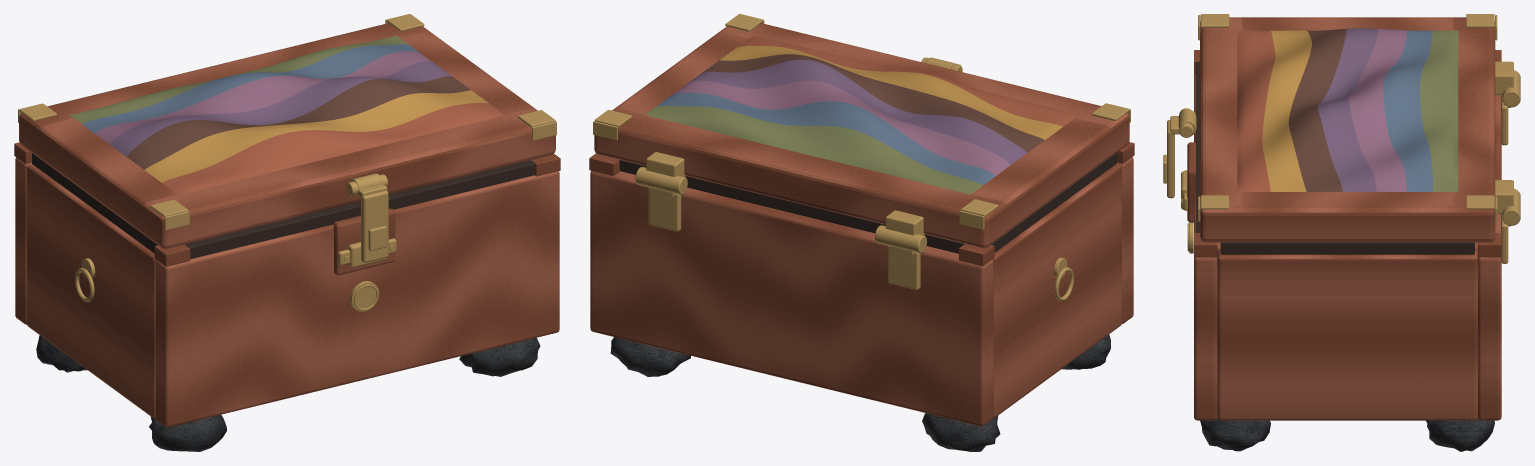
The model's file is mauritius.glb.
3 renders of one model, left to right at view 1: azimuth 30°, elevation 25°; view 2: azimuth 150°, elevation 25°; view 3: azimuth 270°, elevation 25°, orthographic.
Visible parts, largest first — view 1: Earth / long wall, Lid / polished slab, Earth / end wall, Dune / ribbon 0, Dune / ribbon 1, Dune / ribbon 2, Seam / long, Dune / ribbon 3, Dune / ribbon 4, Dune / ribbon 5, Dune / ribbon 6, Granite foot (+8 smaller); view 2: Earth / long wall.001, Lid / polished slab, Earth / end wall, Dune / ribbon 6, Dune / ribbon 5, Dune / ribbon 3, Dune / ribbon 4, Dune / ribbon 2, Dune / ribbon 1, Seam / long.001, Dune / ribbon 0, Granite foot.001 (+12 smaller); view 3: Earth / end wall.001, Lid / polished slab, Dune / ribbon 2, Dune / ribbon 5, Dune / ribbon 6, Dune / ribbon 1, Dune / ribbon 3, Dune / ribbon 4, Dune / ribbon 0, Earth / long wall.001, Earth / long wall, Seam / side.001 (+15 smaller).
Part boxes in pixels (x1,y1,x2,y2): Earth / long wall: (155, 171, 559, 427); Lid / polished slab: (19, 23, 555, 248); Earth / end wall: (27, 164, 156, 418); Dune / ribbon 0: (162, 102, 504, 194); Dune / ribbon 1: (145, 90, 488, 182); Dune / ribbon 2: (126, 76, 470, 169); Seam / long: (184, 160, 535, 258); Dune / ribbon 3: (110, 61, 452, 156); Dune / ribbon 4: (95, 51, 431, 144); Dune / ribbon 5: (82, 44, 420, 133); Dune / ribbon 6: (69, 35, 408, 123); Granite foot: (149, 415, 226, 451); Earth / long wall.001: (590, 171, 993, 426); Lid / polished slab: (594, 23, 1129, 248); Earth / end wall: (993, 163, 1121, 417); Dune / ribbon 6: (645, 105, 982, 194); Dune / ribbon 5: (657, 92, 995, 185); Dune / ribbon 3: (689, 59, 1026, 164); Dune / ribbon 4: (671, 80, 1010, 175); Dune / ribbon 2: (702, 54, 1044, 152); Dune / ribbon 1: (720, 46, 1062, 139); Seam / long.001: (619, 160, 964, 253); Dune / ribbon 0: (737, 35, 1078, 126); Granite foot.001: (922, 413, 1000, 451); Earth / end wall.001: (1217, 249, 1477, 420); Lid / polished slab: (1200, 17, 1495, 242); Dune / ribbon 2: (1288, 29, 1346, 191); Dune / ribbon 5: (1383, 30, 1432, 191); Dune / ribbon 6: (1420, 30, 1458, 191); Dune / ribbon 1: (1262, 30, 1311, 191); Dune / ribbon 3: (1317, 28, 1377, 191); Dune / ribbon 4: (1349, 28, 1406, 191); Dune / ribbon 0: (1237, 30, 1275, 191); Earth / long wall.001: (1478, 95, 1501, 420); Earth / long wall: (1194, 74, 1217, 420); Seam / side.001: (1220, 242, 1474, 254).
Bounding box in the file's own units: 3.79 × 2.56 × 2.88.
11 materials, 2 textured.
